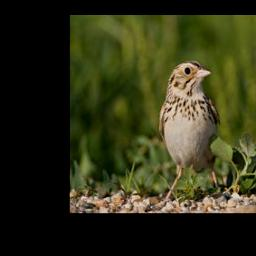Sparrow: (156, 57, 222, 207)
